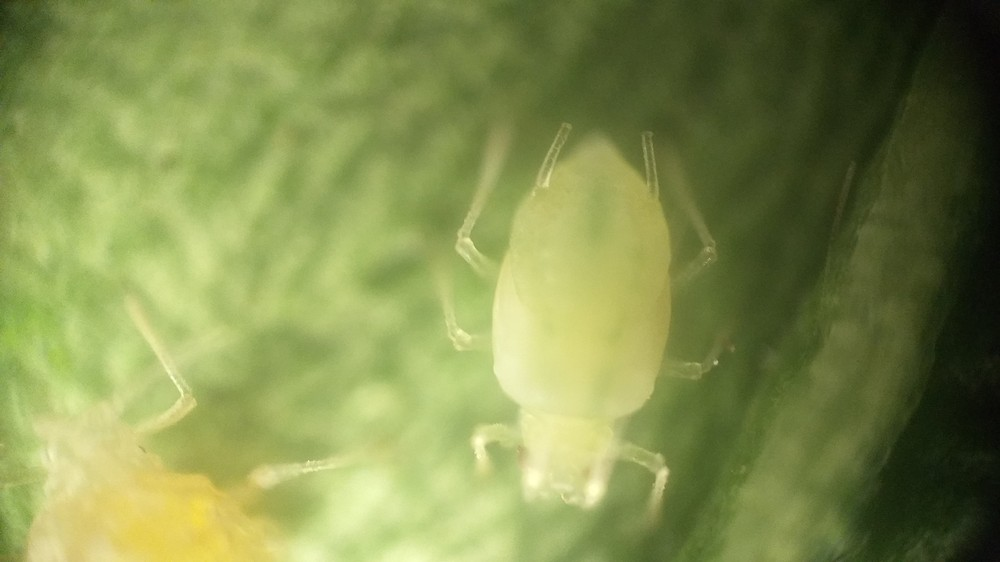Pulgon: (397, 104, 775, 544)
